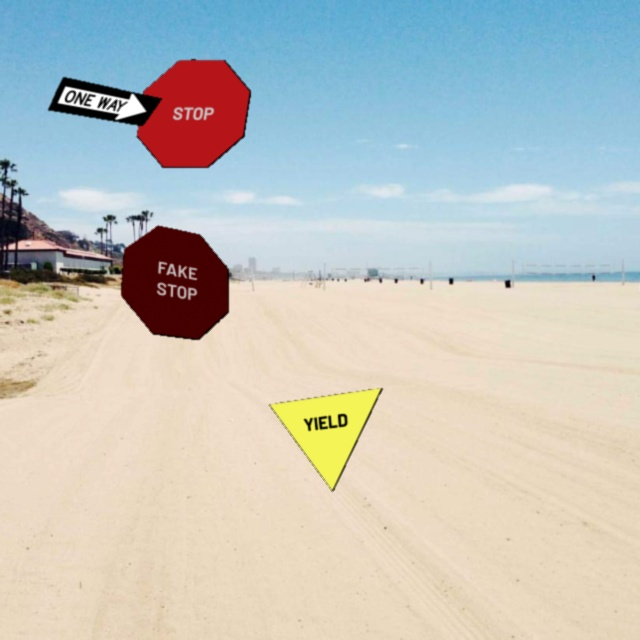FAKE_STOP: (120, 225, 229, 340)
ONE_WAY_ right: (47, 76, 162, 126)
STOP: (136, 59, 251, 168)
YIELD: (268, 387, 383, 492)
